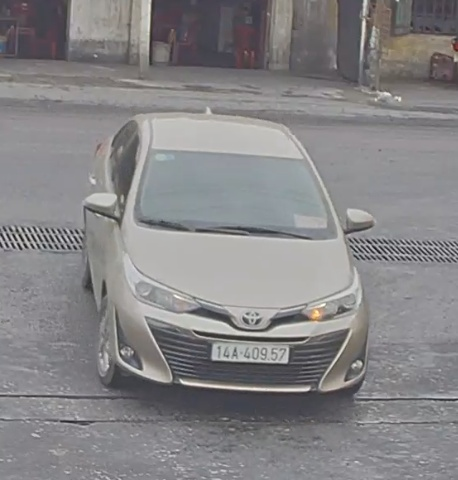vehicle plate: (209, 335, 295, 365)
